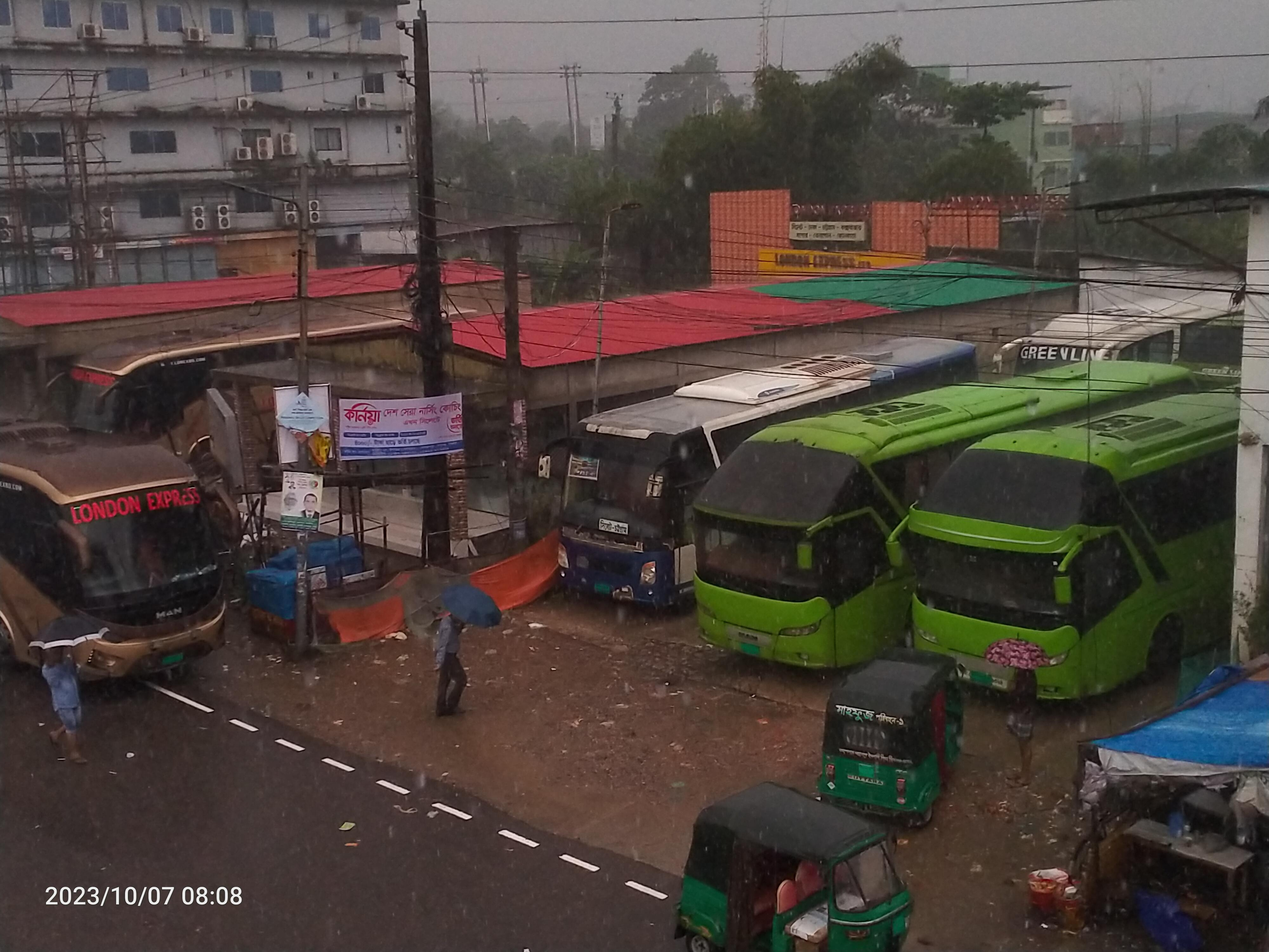Bus: (669, 340, 1206, 686), (490, 319, 968, 634), (899, 340, 1269, 704), (0, 382, 243, 701), (45, 288, 508, 435), (1000, 261, 1259, 380)
